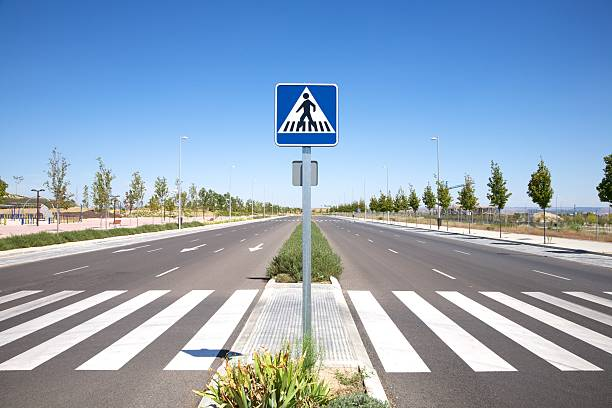yaya_gecidi_levha: (275, 87, 340, 150)
